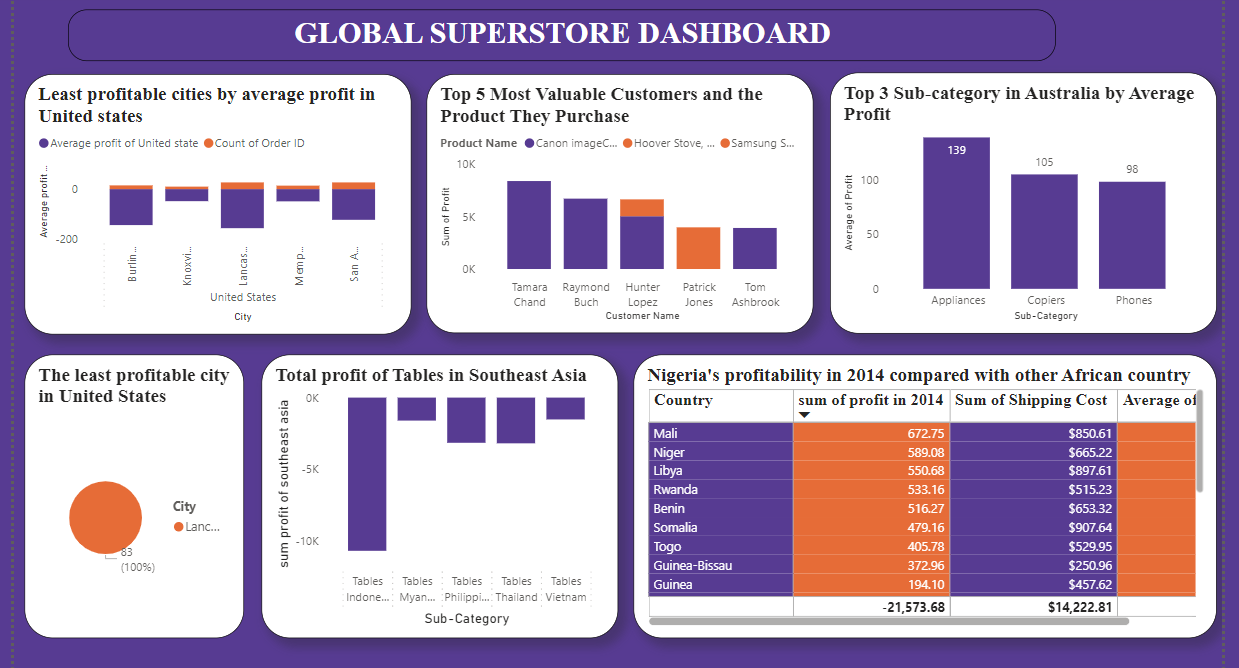

The page's visual inventory and layout, read from the dashboard file:
{"tool":"powerbi","page":{"name":"Page 2","canvas":[1280,720],"ordinal":1},"visuals":[{"type":"tableEx","title":"Nigeria''s profitability in 2014 compared with other African country","fields":{"Values":["GlobalSuperstore - Capstone1.Country","GlobalSuperstore - Capstone1.sum of profit in 2014","GlobalSuperstore - Capstone1.Shipping Cost","GlobalSuperstore - Capstone1.Discount"]},"box":[656.4,383,618.3,300.4],"z":0},{"type":"textbox","title":"GLOBAL SUPERSTONE DASHBOARD","box":[56.7,17,1046.9,54.8],"z":1000},{"type":"columnChart","title":"Least profitable cities by average profit in United states","fields":{"Category":["GlobalSuperstore - Capstone1.Country","GlobalSuperstore - Capstone1.City"],"Y":["GlobalSuperstore - Capstone1.Average profit of United state","GlobalSuperstore - Capstone1.Order ID"]},"box":[11.3,85,410,275.9],"z":2000},{"type":"columnChart","title":"Top 3 Sub-category in Australia by Average Profit","fields":{"Category":["GlobalSuperstore - Capstone1.Sub-Category","GlobalSuperstore - Capstone1.Country"],"Y":["GlobalSuperstore - Capstone1.Profit"]},"box":[864.6,84.2,410,276.6],"z":3000},{"type":"columnChart","title":"Top 5 Most Valuable Customers and the Product They Purchase ","fields":{"Category":["GlobalSuperstore - Capstone1.Customer Name"],"Y":["GlobalSuperstore - Capstone1.Profit"],"Series":["GlobalSuperstore - Capstone1.Product Name"]},"box":[437.1,85.8,410,275],"z":4000},{"type":"columnChart","title":"Total profit of  Tables in Southeast Asia ","fields":{"Y":["GlobalSuperstore - Capstone1.sum profit of southeast asia"],"Category":["GlobalSuperstore - Capstone1.Country","GlobalSuperstore - Capstone1.Sub-Category"]},"box":[262.3,383,378.3,300.4],"z":5000},{"type":"pieChart","title":"The least profitable city in United States","fields":{"Category":["GlobalSuperstore - Capstone1.City"],"Series":["GlobalSuperstore - Capstone1.Ship Mode"],"Y":["GlobalSuperstore - Capstone1.Quantity"]},"box":[11.3,383.6,232.4,300.5],"z":6000}]}

Visuals, with their boxes in screenshot pixels (x1, y1, x2, y2):
"Nigeria''s profitability in 2014 compared with other African country" tableEx: bbox=[632, 350, 1219, 635]
"GLOBAL SUPERSTONE DASHBOARD" textbox: bbox=[63, 3, 1056, 55]
"Least profitable cities by average profit in United states" columnChart: bbox=[20, 68, 409, 329]
"Top 3 Sub-category in Australia by Average Profit" columnChart: bbox=[830, 67, 1219, 329]
"Top 5 Most Valuable Customers and the Product They Purchase " columnChart: bbox=[424, 68, 813, 329]
"Total profit of  Tables in Southeast Asia " columnChart: bbox=[258, 350, 617, 635]
"The least profitable city in United States" pieChart: bbox=[20, 351, 241, 636]
